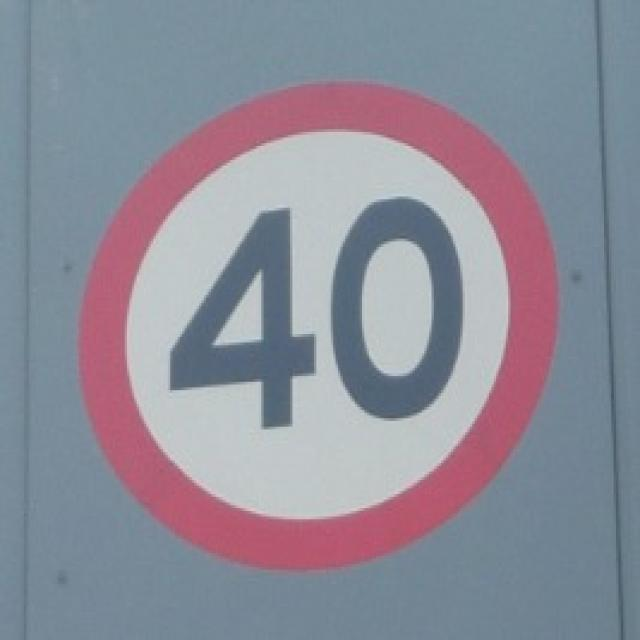Speed Limit -40-: (166, 192, 469, 435)
